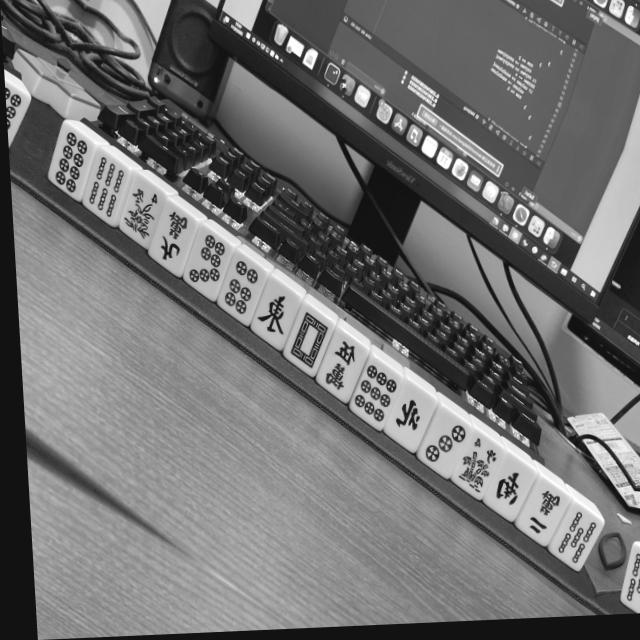bai: (275, 303, 340, 378)
east: (242, 274, 307, 352)
f4: (446, 429, 510, 503)
ff4: (111, 173, 173, 250)
m2: (511, 473, 577, 549)
m5: (308, 328, 374, 405)
m9: (140, 199, 204, 276)
north: (377, 377, 442, 454)
s5: (543, 502, 606, 574), (614, 543, 640, 613)
s6: (74, 149, 140, 226)
south: (476, 451, 542, 526)
t3: (411, 406, 477, 480)
t6: (212, 249, 276, 326)
t7: (176, 225, 239, 302)
t8: (42, 125, 105, 202), (4, 73, 34, 147)
t9: (342, 356, 408, 434)
